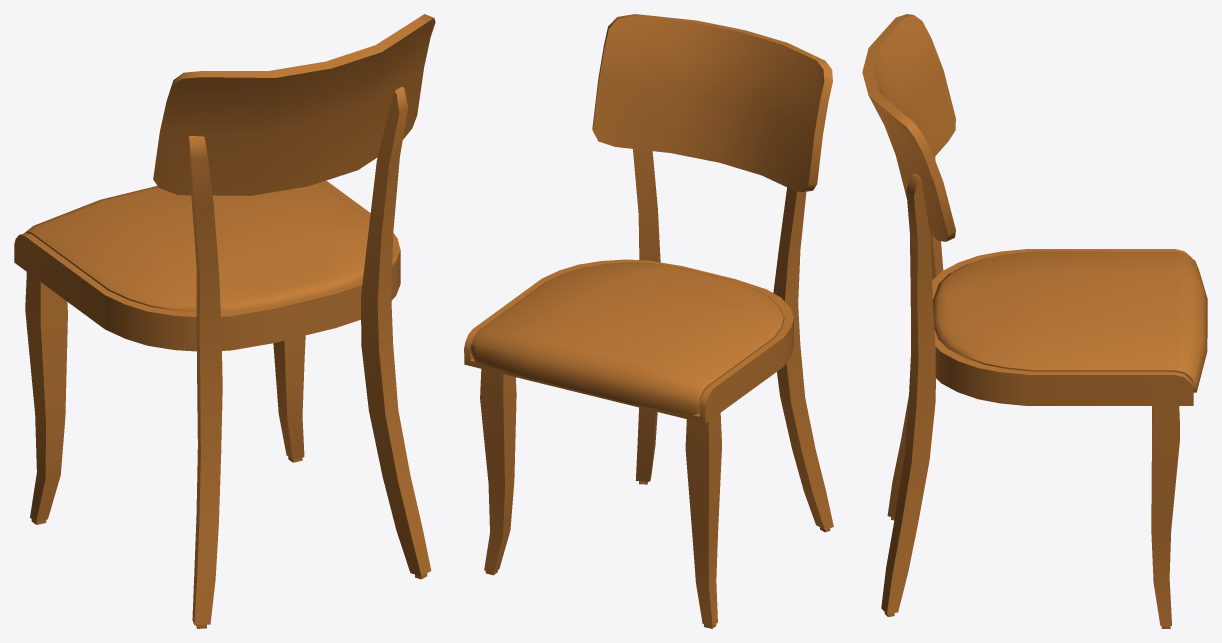
The model's file is chair.glb.
3 views of the same model, side by side, from view 1: azimuth 30°, elevation 25°; view 2: azimuth 150°, elevation 25°; view 3: azimuth 270°, elevation 25° (orthographic). The views are drawn at different scales.
Visible parts, largest first — view 1: LP_CHAIR_03_low_2, LP_CHAIR_01_low_0, LP_CHAIR_02_low_1, LP_CHAIR_04_low_3, LP_CHAIR_05_low_4; view 2: LP_CHAIR_03_low_2, LP_CHAIR_01_low_0, LP_CHAIR_05_low_4, LP_CHAIR_02_low_1, LP_CHAIR_04_low_3; view 3: LP_CHAIR_03_low_2, LP_CHAIR_01_low_0, LP_CHAIR_02_low_1, LP_CHAIR_04_low_3, LP_CHAIR_05_low_4.
Part boxes in pixels (left/top/right/bottom): LP_CHAIR_03_low_2: left=24, top=182, right=369, bottom=312; LP_CHAIR_01_low_0: left=153, top=14, right=435, bottom=195; LP_CHAIR_02_low_1: left=188, top=86, right=431, bottom=628; LP_CHAIR_04_low_3: left=14, top=180, right=400, bottom=351; LP_CHAIR_05_low_4: left=25, top=272, right=305, bottom=524; LP_CHAIR_03_low_2: left=470, top=262, right=783, bottom=415; LP_CHAIR_01_low_0: left=592, top=14, right=832, bottom=191; LP_CHAIR_05_low_4: left=480, top=369, right=721, bottom=628; LP_CHAIR_02_low_1: left=633, top=149, right=833, bottom=532; LP_CHAIR_04_low_3: left=464, top=259, right=793, bottom=423; LP_CHAIR_03_low_2: left=933, top=251, right=1207, bottom=392; LP_CHAIR_01_low_0: left=862, top=14, right=955, bottom=241; LP_CHAIR_02_low_1: left=881, top=157, right=943, bottom=616; LP_CHAIR_04_low_3: left=932, top=249, right=1193, bottom=405; LP_CHAIR_05_low_4: left=1151, top=406, right=1179, bottom=628.
Size of the model in its own units: 0.7852 by 1.46 by 0.9094.
